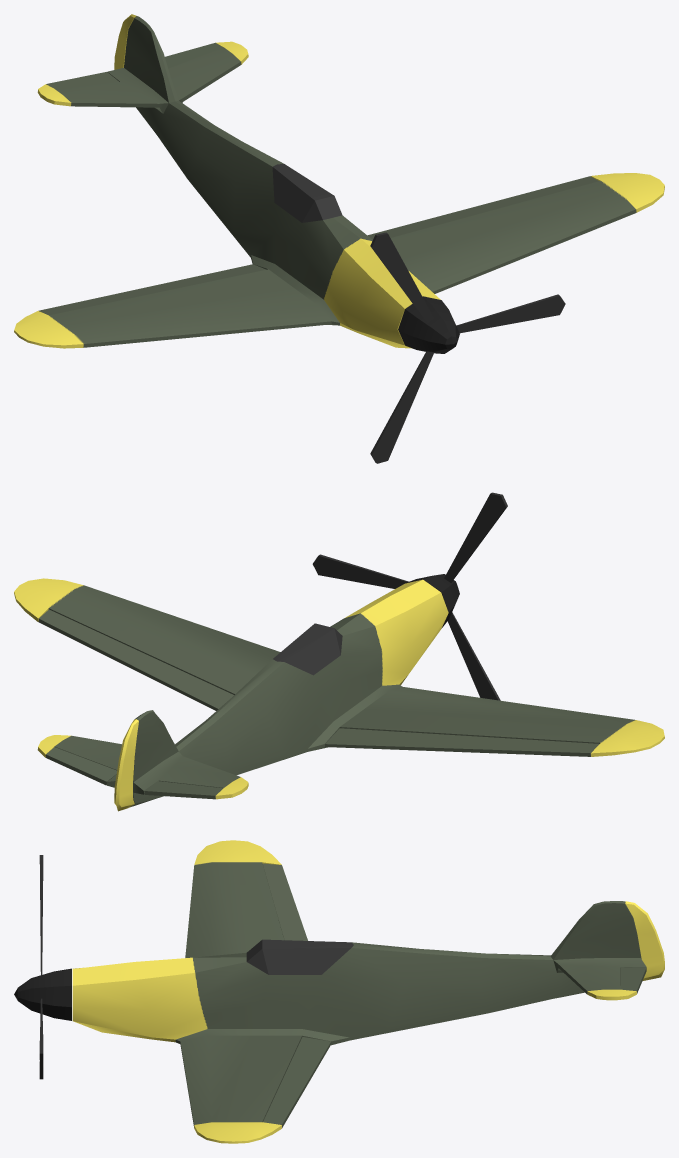
The picture shows the model from 3 angles, top to bottom: view 1: azimuth 30°, elevation 25°; view 2: azimuth 150°, elevation 25°; view 3: azimuth 270°, elevation 25°; orthographic projection. The views are drawn at different scales.
Visible parts, largest first — view 1: Body, Fan; view 2: Body, Fan; view 3: Body, Fan.
Boxes of the visible parts, box(x1,y1,x2,y2) form: Body: box(14, 14, 664, 353); Fan: box(370, 232, 565, 463); Body: box(14, 574, 664, 811); Fan: box(312, 492, 507, 700); Body: box(14, 840, 664, 1143); Fan: box(39, 855, 43, 1079).
Size of the model in its own units: 346 by 118 by 316.
2 materials, 2 textured.
